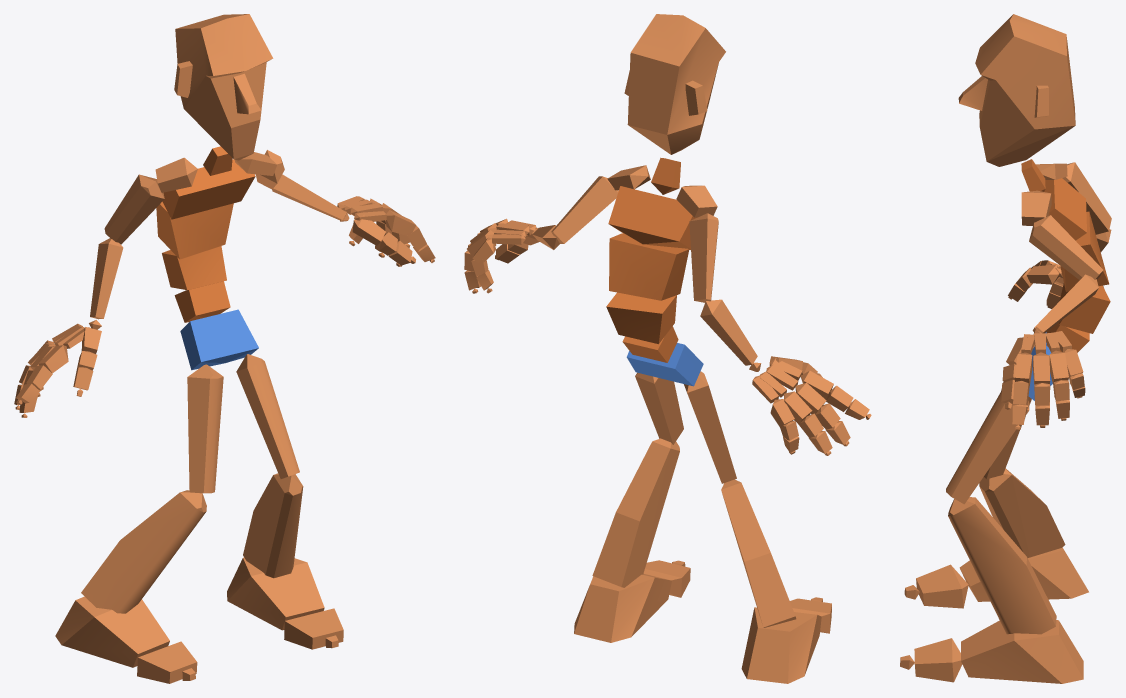
File: prueba152.obj
The picture shows the model from 3 angles, left to right: view 1: azimuth 30°, elevation 25°; view 2: azimuth 150°, elevation 25°; view 3: azimuth 270°, elevation 25°; orthographic projection. The views are drawn at different scales.
Parts seen in each view (by area): view 1: BOPED_Head, BOPED_R_leg, BOPED_R_foot, BOPED_L_leg, BOPED_R_foot01, BOPED_R_legup, BOPED_L_legup, Bone01, Bone04, Bone05, BOPED_R_arm_upper, Bone03 (+7 smaller); view 2: BOPED_Head, BOPED_L_leg, BOPED_R_foot01, BOPED_R_leg, BOPED_R_foot, Bone04, Bone05, Bone03, BOPED_R_legup, BOPED_R_arm_upper, BOPED_L_legup, BOPED_L_arm_upper (+8 smaller); view 3: BOPED_Head, BOPED_L_leg, BOPED_R_foot01, BOPED_R_leg, BOPED_L_legup, BOPED_R_foot, BOPED_L_arm_upper, BOPED_R_foot_toe01, Bone05, BOPED_R_foot_toe04, BOPED_L_arm_fore, Bone03 (+14 smaller).
Part boxes in pixels (left/top/right/bottom): BOPED_Head: left=174, top=14, right=273, bottom=160; BOPED_R_leg: left=81, top=490, right=206, bottom=613; BOPED_R_foot: left=55, top=596, right=169, bottom=667; BOPED_L_leg: left=243, top=473, right=303, bottom=578; BOPED_R_foot01: left=227, top=557, right=324, bottom=630; BOPED_R_legup: left=187, top=364, right=223, bottom=493; BOPED_L_legup: left=236, top=354, right=299, bottom=478; Bone01: left=180, top=309, right=258, bottom=370; Bone04: left=156, top=201, right=233, bottom=259; Bone05: left=162, top=159, right=255, bottom=219; BOPED_R_arm_upper: left=104, top=174, right=164, bottom=244; Bone03: left=162, top=246, right=226, bottom=290; BOPED_Head: left=624, top=14, right=725, bottom=154; BOPED_L_leg: left=592, top=438, right=679, bottom=587; BOPED_R_foot01: left=574, top=573, right=671, bottom=642; BOPED_R_leg: left=721, top=479, right=796, bottom=627; BOPED_R_foot: left=741, top=607, right=821, bottom=683; Bone04: left=609, top=233, right=689, bottom=300; Bone05: left=608, top=186, right=697, bottom=249; Bone03: left=606, top=292, right=676, bottom=344; BOPED_R_legup: left=684, top=371, right=736, bottom=483; BOPED_R_arm_upper: left=689, top=213, right=718, bottom=302; BOPED_L_legup: left=635, top=372, right=683, bottom=444; BOPED_L_arm_upper: left=551, top=176, right=618, bottom=243; BOPED_Head: left=958, top=14, right=1075, bottom=166; BOPED_L_leg: left=948, top=497, right=1056, bottom=634; BOPED_R_foot01: left=961, top=620, right=1083, bottom=683; BOPED_R_leg: left=979, top=468, right=1065, bottom=557; BOPED_L_legup: left=946, top=390, right=1029, bottom=504; BOPED_R_foot: left=959, top=547, right=1088, bottom=601; BOPED_L_arm_upper: left=1029, top=215, right=1103, bottom=279; BOPED_R_foot_toe01: left=916, top=564, right=968, bottom=608; Bone05: left=1044, top=178, right=1086, bottom=240; BOPED_R_foot_toe04: left=914, top=638, right=962, bottom=682; BOPED_L_arm_fore: left=1032, top=274, right=1098, bottom=333; Bone03: left=1059, top=283, right=1110, bottom=333.
Bounding box in the file's own units: 130 × 185 × 56.93.
